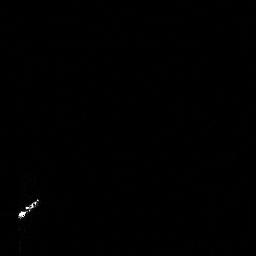ship: (13, 195, 43, 222)
